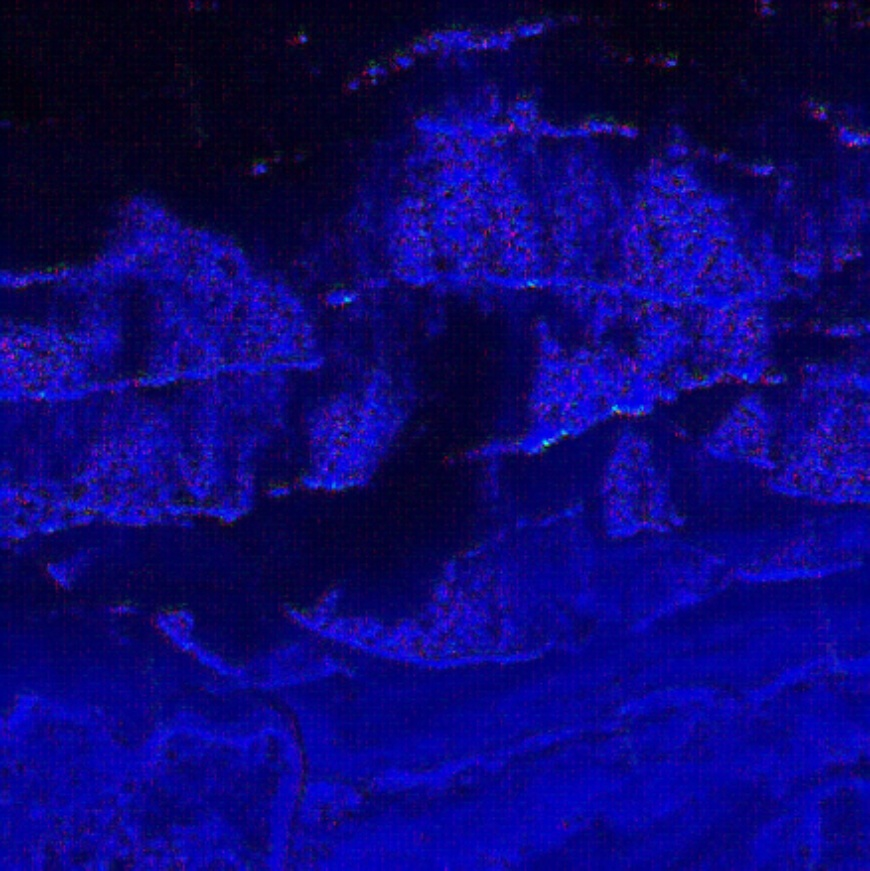rip_current: (164, 242, 625, 649)
